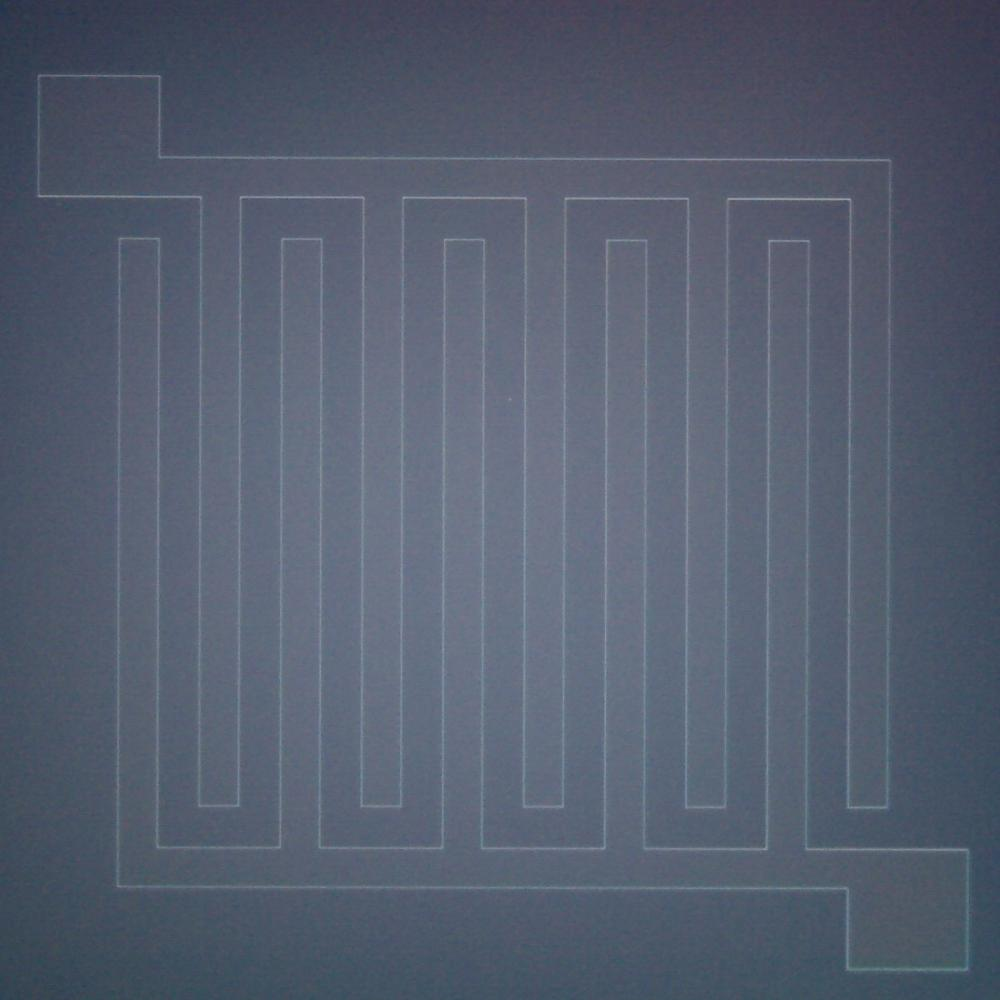dot: (508, 398, 512, 402)
